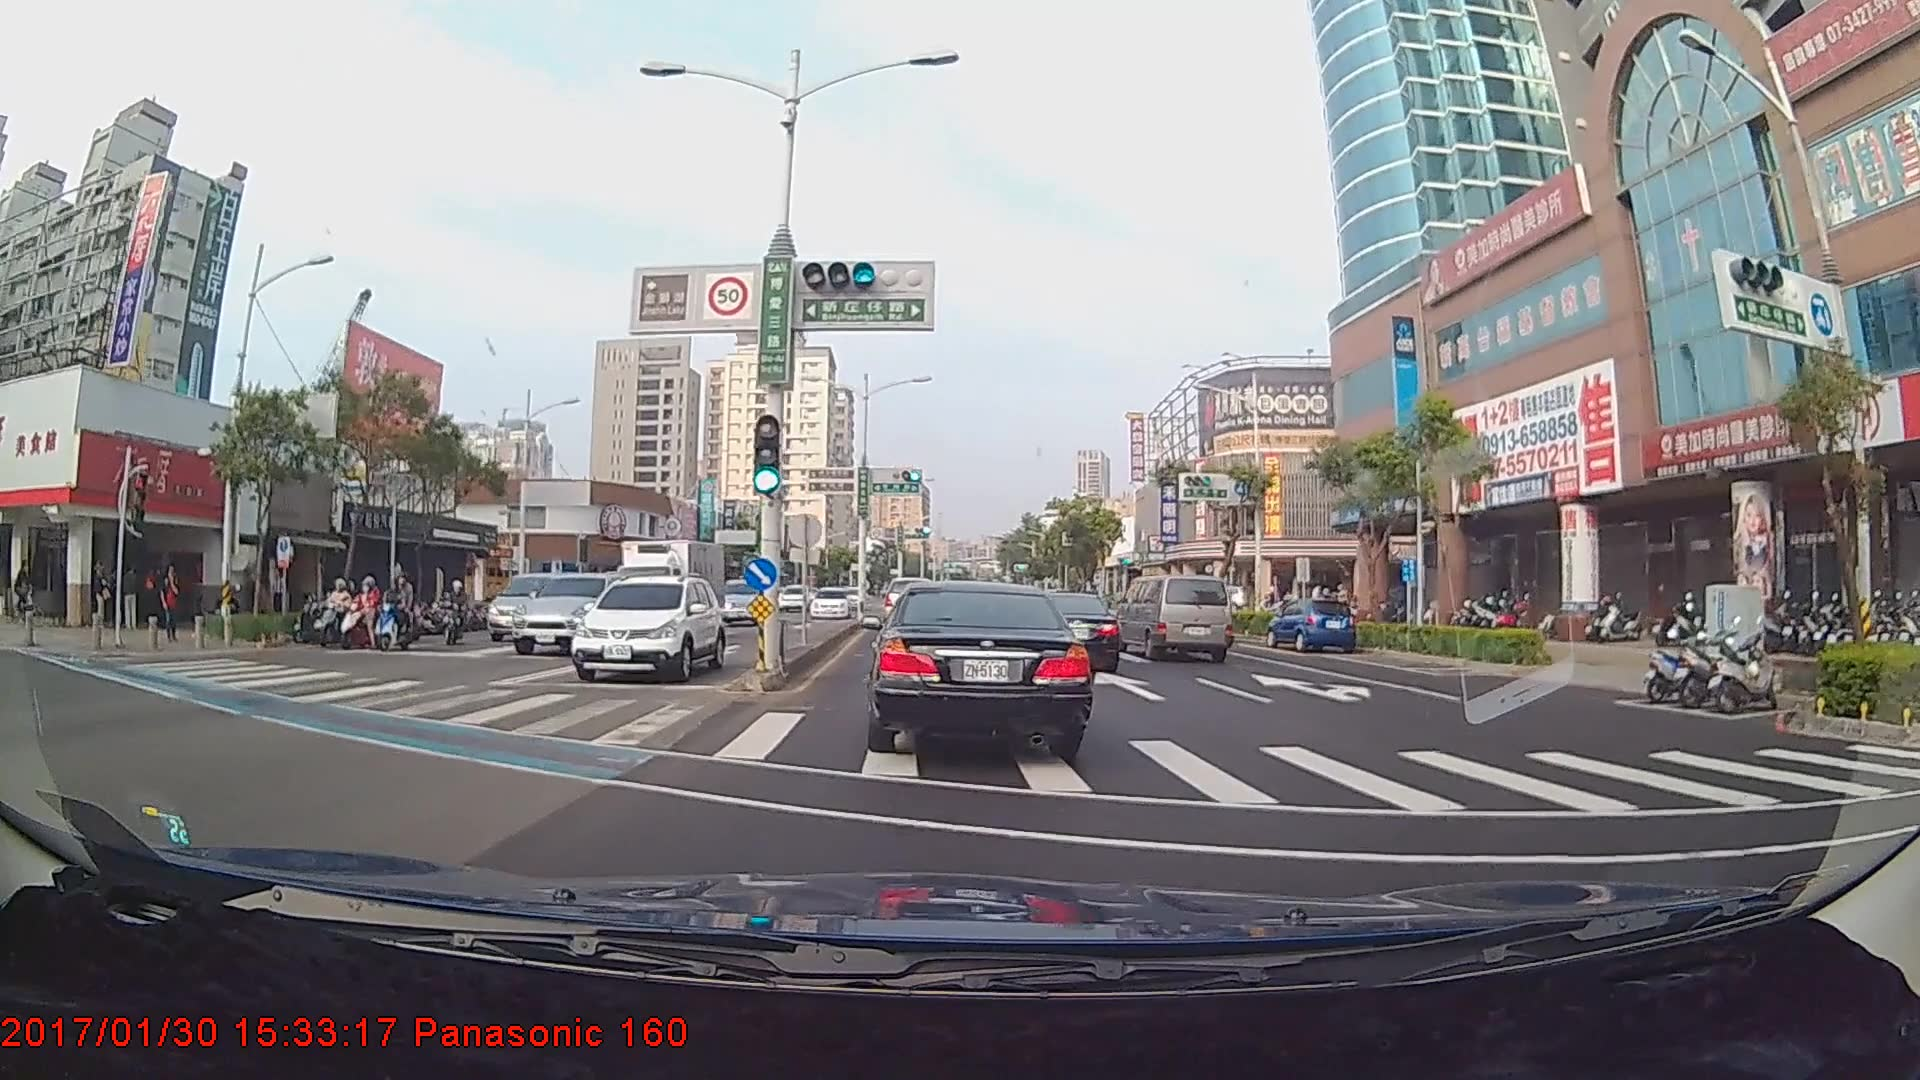pedestrian: (91, 558, 116, 629), (162, 566, 183, 643), (120, 564, 143, 635)
rider: (331, 573, 397, 654), (366, 570, 424, 655), (298, 574, 357, 646), (5, 561, 46, 625)
vehicle: (870, 582, 1086, 749), (574, 571, 724, 680), (603, 524, 737, 645), (1119, 574, 1235, 661), (507, 567, 624, 651), (1017, 592, 1118, 674), (487, 572, 584, 645), (1266, 598, 1355, 654), (718, 577, 781, 627), (883, 574, 931, 624), (807, 580, 845, 611)
